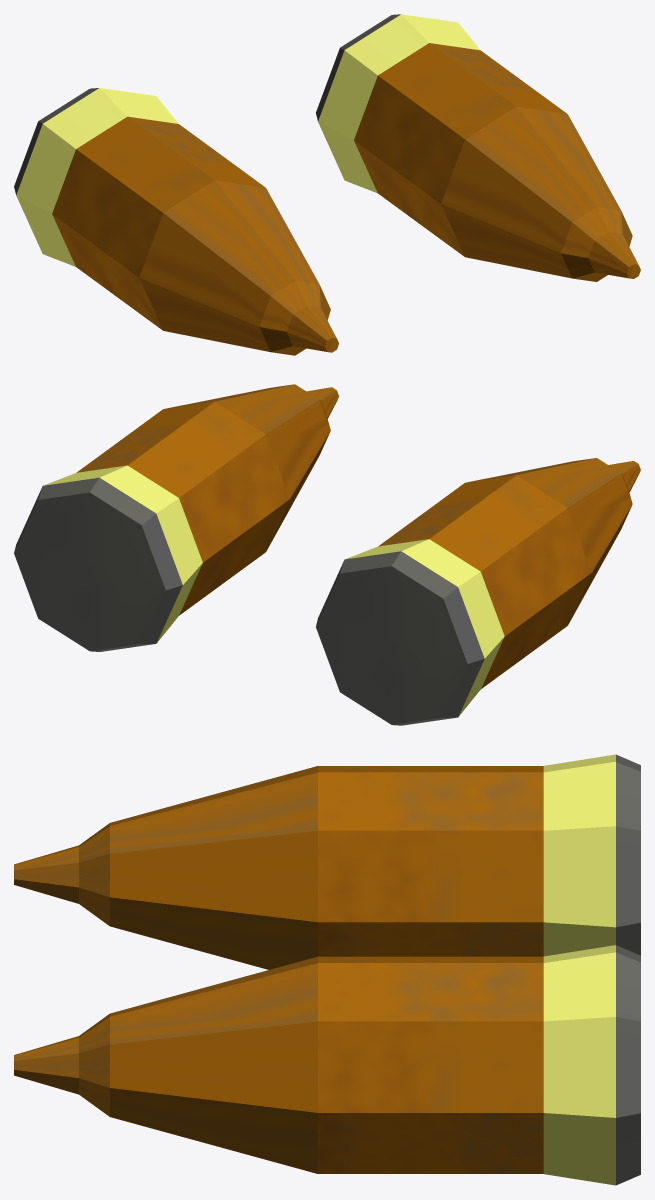
File: bullet.fbx
3 views of the same model, one above another, from view 1: azimuth 30°, elevation 25°; view 2: azimuth 150°, elevation 25°; view 3: azimuth 270°, elevation 25° (orthographic). The views are drawn at different scales.
Visible parts, largest first — view 1: bulletLeft, bulletLeft.001; view 2: bulletLeft, bulletLeft.001; view 3: bulletLeft, bulletLeft.001.
Part boxes in pixels (left/top/right/bottom): bulletLeft: left=316, top=14, right=640, bottom=281; bulletLeft.001: left=14, top=88, right=338, bottom=355; bulletLeft: left=14, top=384, right=338, bottom=651; bulletLeft.001: left=316, top=458, right=640, bottom=725; bulletLeft: left=14, top=945, right=640, bottom=1185; bulletLeft.001: left=14, top=754, right=640, bottom=969.
Size of the model in its own units: 621 by 221 by 556.
Materials: 1 (1 with a texture image).
